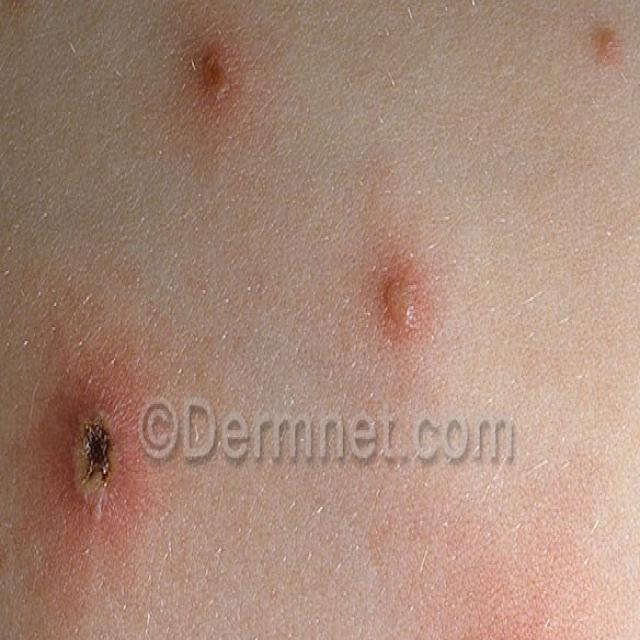Viral Infections: (38, 362, 161, 534), (361, 242, 447, 377), (190, 26, 242, 122), (586, 16, 635, 83)
